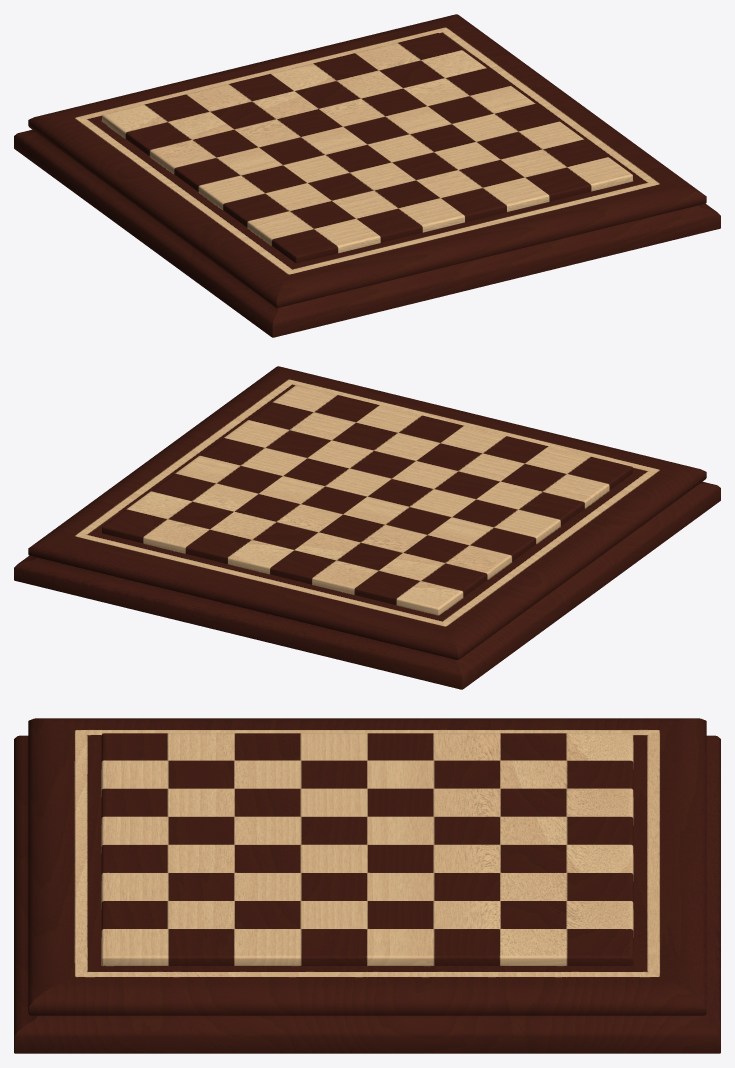
The model's file is checkerboard.glb.
3 views of the same model, one above another, from view 1: azimuth 30°, elevation 25°; view 2: azimuth 150°, elevation 25°; view 3: azimuth 270°, elevation 25° (orthographic). The views are drawn at different scales.
Parts seen in each view (by area): view 1: checkerboard; view 2: checkerboard; view 3: checkerboard.
Boxes of the visible parts, <box> form: checkerboard: <box>14,14,720,337</box>; checkerboard: <box>14,366,720,689</box>; checkerboard: <box>14,718,720,1053</box>.
Size of the model in its own units: 2.66 by 0.2473 by 2.66.
Materials: 1 (1 with a texture image).
